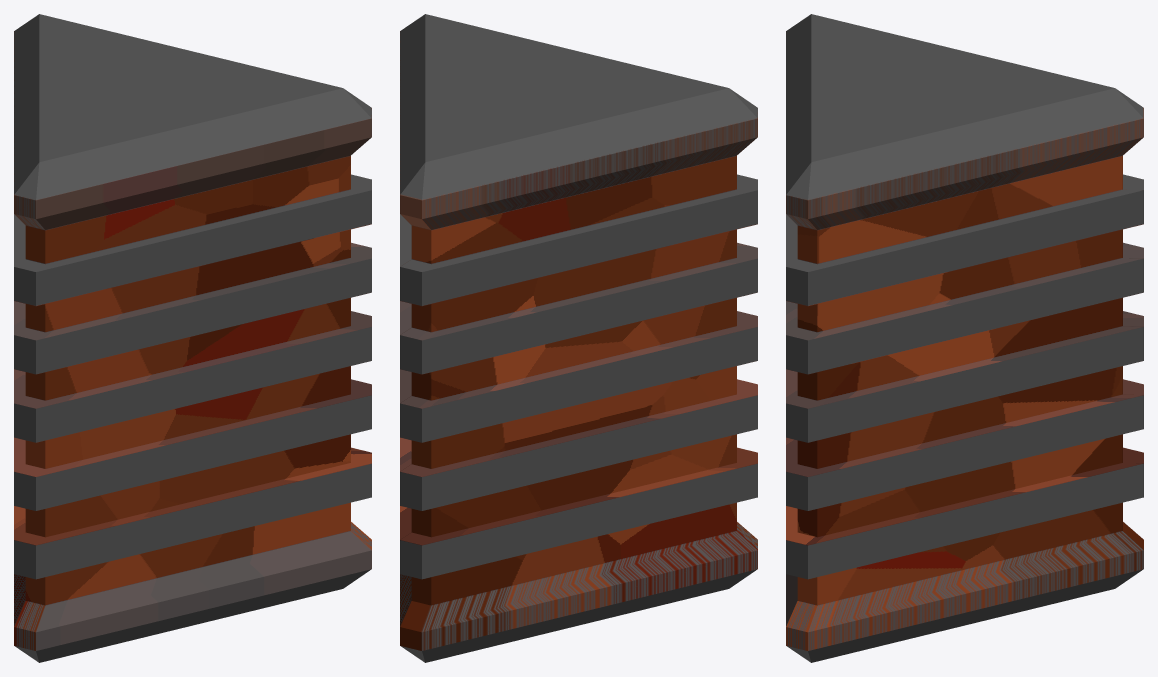
The model's file is TriangleBox.glb.
3 renders of one model, left to right at view 1: azimuth 30°, elevation 25°; view 2: azimuth 150°, elevation 25°; view 3: azimuth 270°, elevation 25°, orthographic.
Visible parts, largest first — view 1: TriangleBox; view 2: TriangleBox; view 3: TriangleBox.
Boxes of the visible parts, x1,y1,x2,y2 form: TriangleBox: (14, 14, 371, 662); TriangleBox: (400, 14, 757, 662); TriangleBox: (786, 14, 1143, 662).
Bounding box in the file's own units: 1.8 × 2.4 × 1.55.
1 material, 1 textured.
